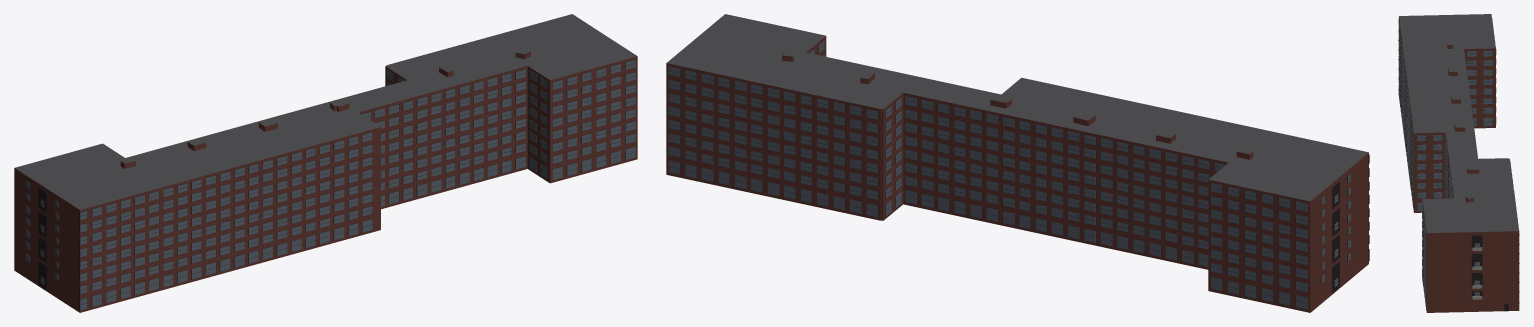
The model's file is bogortuin-101.glb.
3 views of the same model, side by side, from view 1: azimuth 30°, elevation 25°; view 2: azimuth 150°, elevation 25°; view 3: azimuth 270°, elevation 25° (orthographic). The views are drawn at different scales.
Parts seen in each view (by area): view 1: bogortuin-101; view 2: bogortuin-101; view 3: bogortuin-101.
Boxes of the visible parts, x1,y1,x2,y2 form: bogortuin-101: [14, 14, 637, 312]; bogortuin-101: [666, 14, 1369, 312]; bogortuin-101: [1398, 14, 1519, 312].
Size of the model in its own units: 142 by 25.22 by 33.08.
